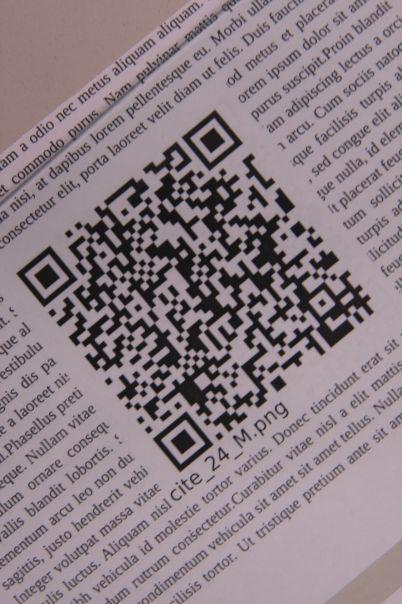Finder pattern: (17, 247, 84, 306), (184, 112, 249, 172), (153, 413, 212, 472)
